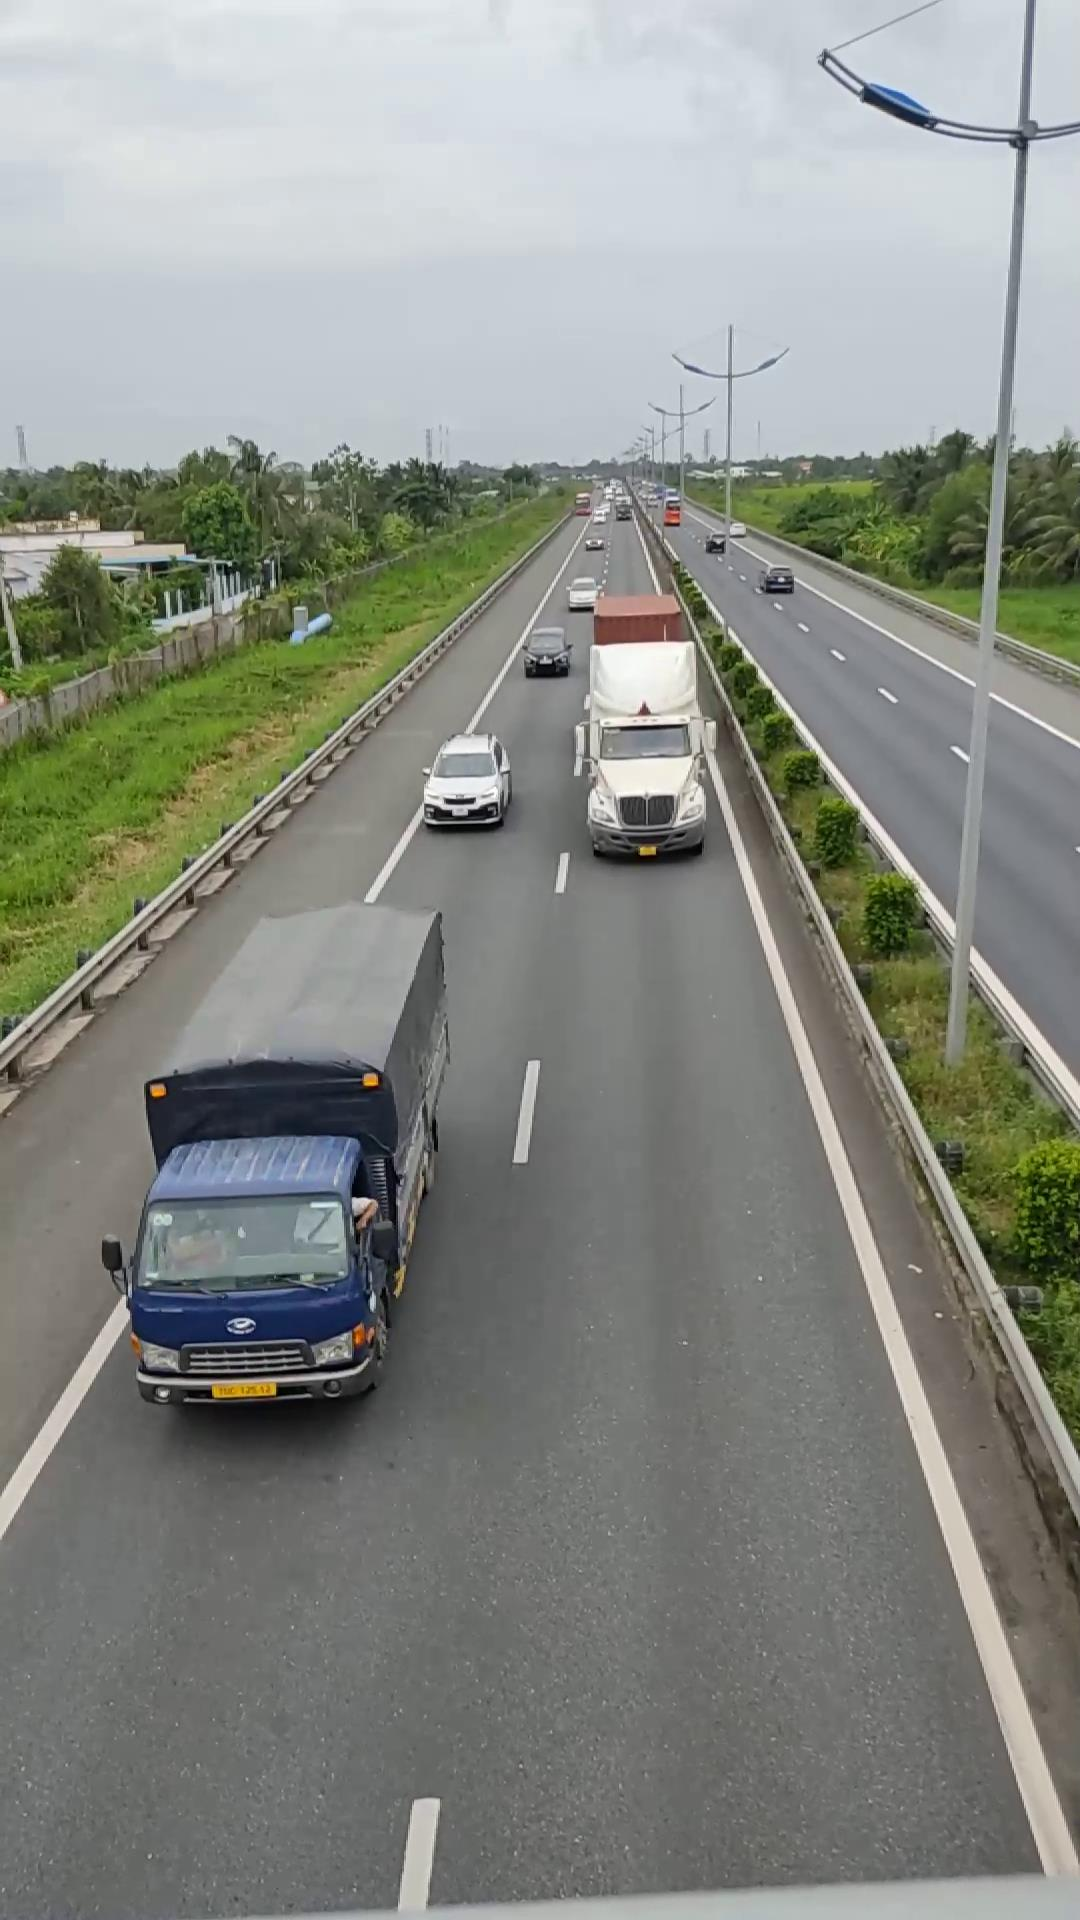car: (419, 732, 514, 828)
container: (576, 584, 712, 858)
truck: (113, 896, 455, 1404)
